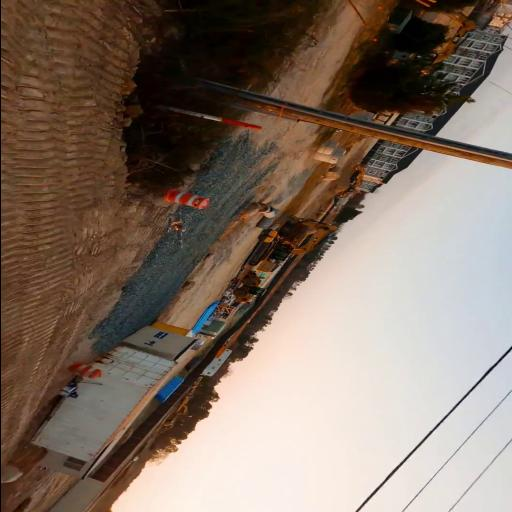uav: (164, 208, 188, 248)
